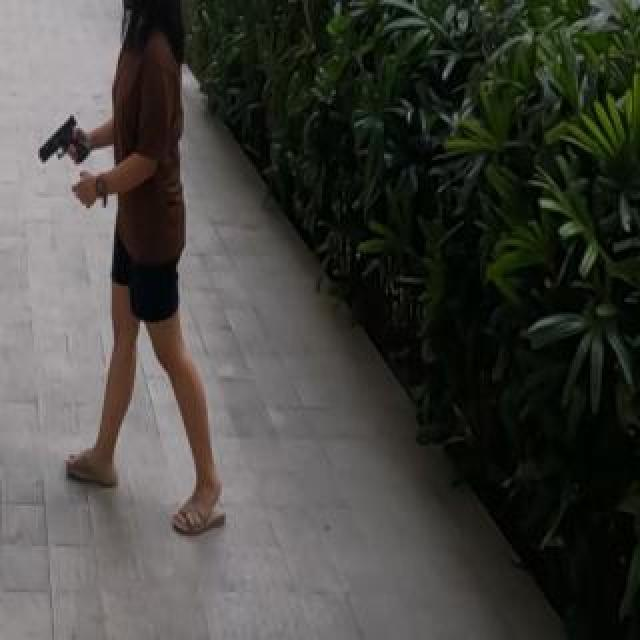Guns: (32, 106, 100, 172)
